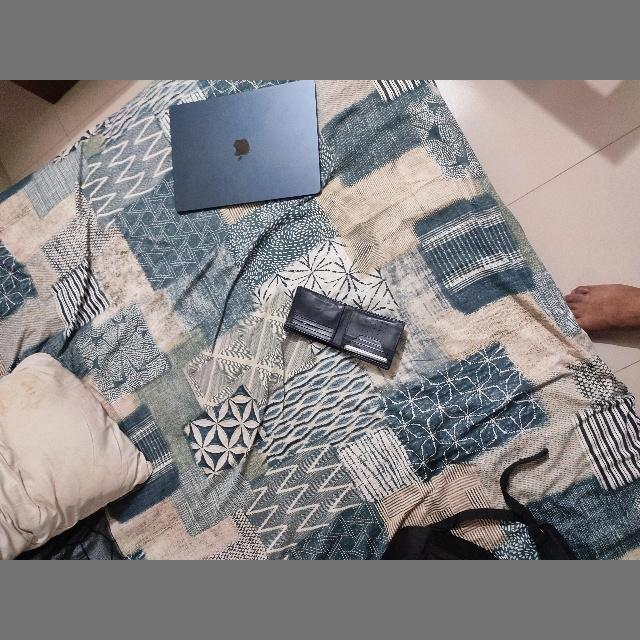Wallet: (284, 286, 406, 370)
